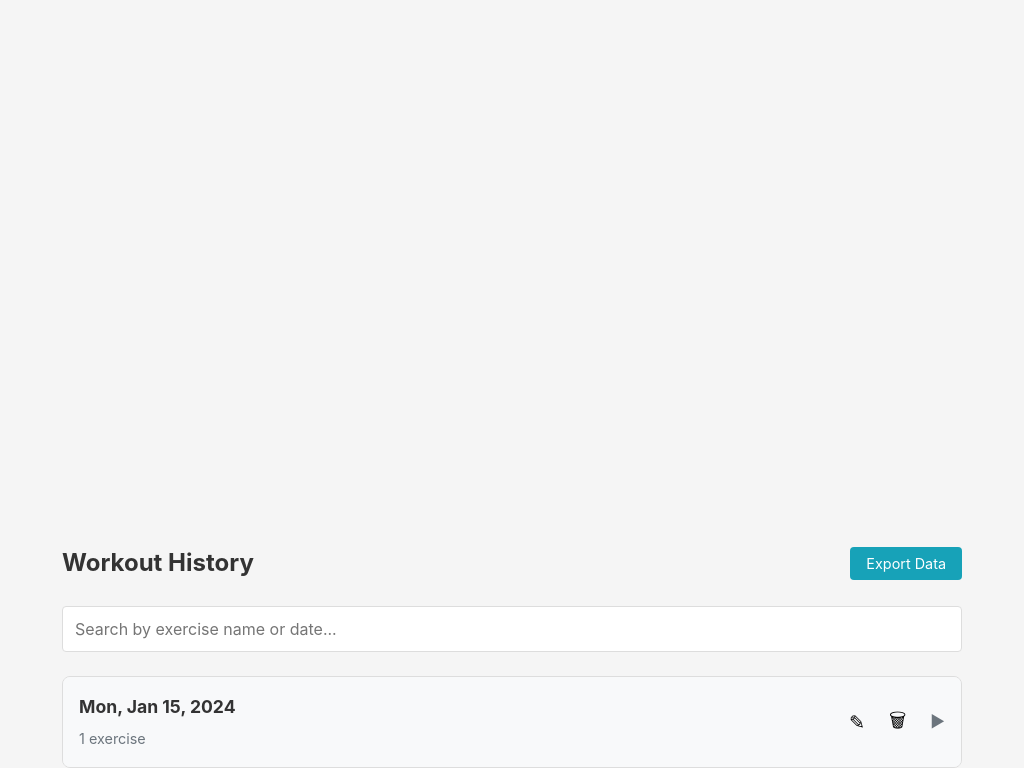
Scenario: WorkoutHistory › edit functionality › should show edit modal when edit button is clicked
The width and height of the screenshot is (1024, 768).
(page scrolled)
Click the button with class "btn-edit" at (857, 722), box x1=841 y1=702 x2=873 y2=742
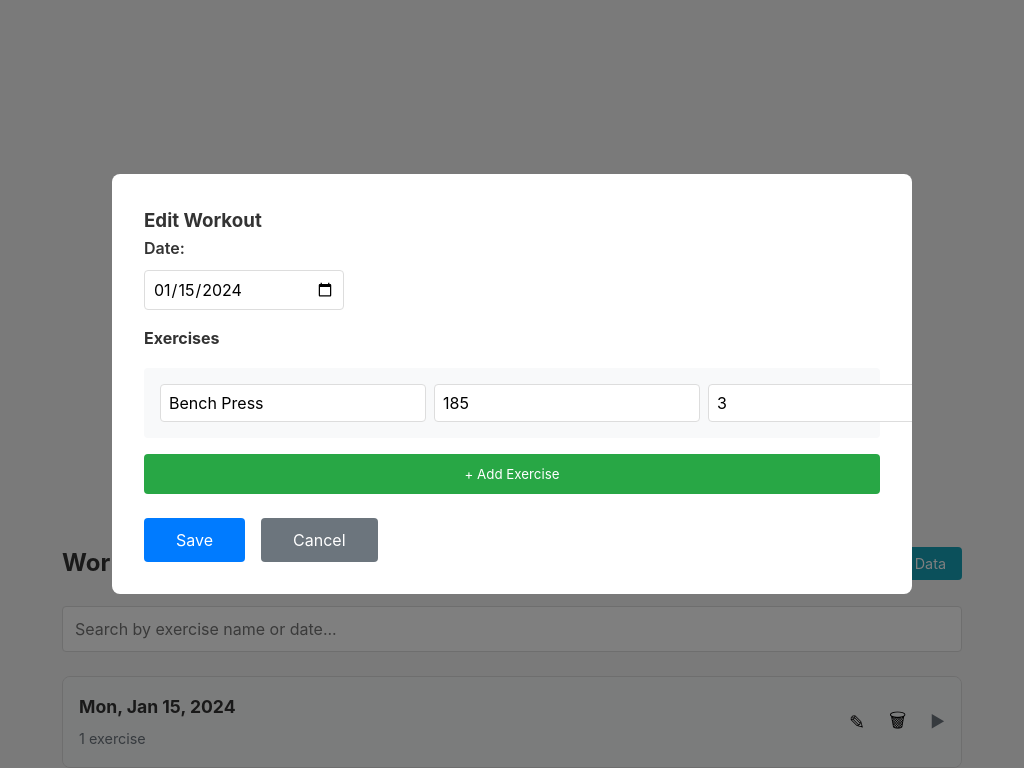
expect the element with class "modal-overlay" is shown: met
expect the heading "Edit Workout" is shown: met, box x1=144 y1=209 x2=262 y2=232
